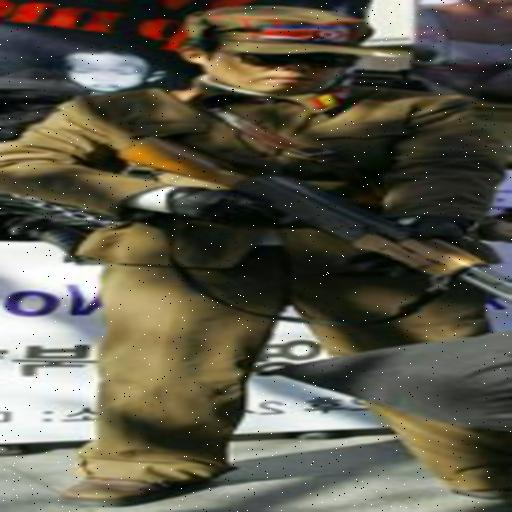north army: (111, 1, 468, 508)
